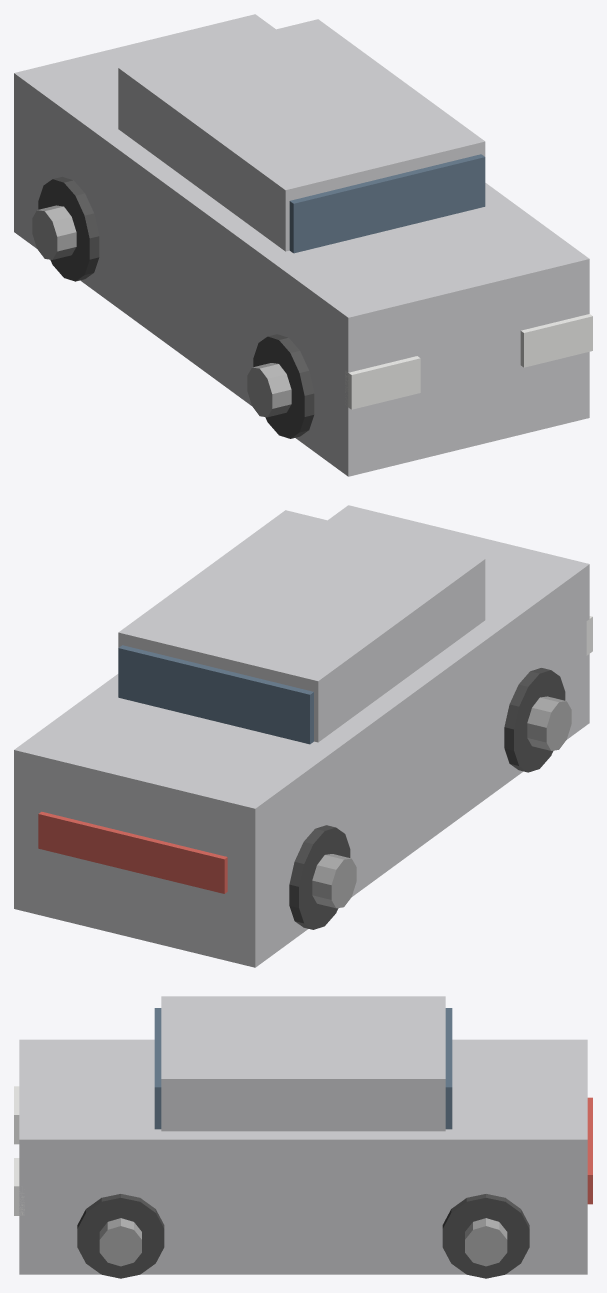
Rendered from economy_sedan.glb.
3 views of the same model, one above another, from view 1: azimuth 30°, elevation 25°; view 2: azimuth 150°, elevation 25°; view 3: azimuth 270°, elevation 25° (orthographic). The views are drawn at different scales.
Parts seen in each view (by area): view 1: body, cabin, glass_f, wheel_rr, wheel_fr, headlamp_l, headlamp_r, hub_-1_-1, hub_-1_1; view 2: body, cabin, glass_r, taillamp, wheel_fr, wheel_rr, hub_-1_-1, hub_-1_1; view 3: body, cabin, wheel_fl, wheel_rl, hub_1_1, hub_1_-1, glass_f, glass_r, taillamp, headlamp_r.
Part boxes in pixels (x1,y1,x2,y2): body: (14, 14, 589, 476); cabin: (118, 19, 485, 251); glass_f: (289, 154, 485, 253); wheel_rr: (38, 176, 99, 281); wheel_fr: (253, 334, 314, 438); headlamp_l: (345, 356, 420, 409); headlamp_r: (520, 314, 592, 367); hub_-1_-1: (32, 205, 76, 259); hub_-1_1: (247, 363, 291, 417); body: (14, 505, 589, 967); cabin: (118, 510, 485, 742); glass_r: (118, 645, 313, 744); taillamp: (38, 811, 227, 893); wheel_fr: (504, 668, 565, 772); wheel_rr: (289, 825, 350, 929); hub_-1_-1: (312, 854, 356, 908); hub_-1_1: (527, 696, 571, 750); body: (19, 1039, 587, 1274); cabin: (161, 996, 445, 1131); wheel_fl: (77, 1194, 164, 1278); wheel_rl: (442, 1194, 529, 1278); hub_1_1: (99, 1218, 141, 1266); hub_1_-1: (465, 1218, 507, 1266); glass_f: (154, 1008, 161, 1129); glass_r: (445, 1008, 452, 1129); taillamp: (587, 1097, 592, 1204); headlamp_r: (14, 1158, 24, 1215).
Bounding box in the file's own units: 2.17 × 1.53 × 4.28.
